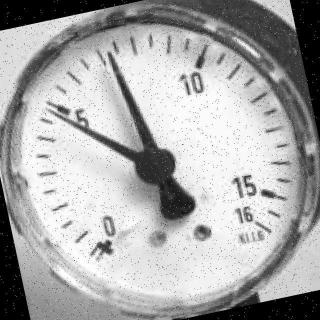gauge: (0, 0, 320, 320), (76, 209, 133, 272), (228, 196, 284, 247), (129, 141, 179, 191), (100, 46, 120, 68), (42, 103, 58, 120)
